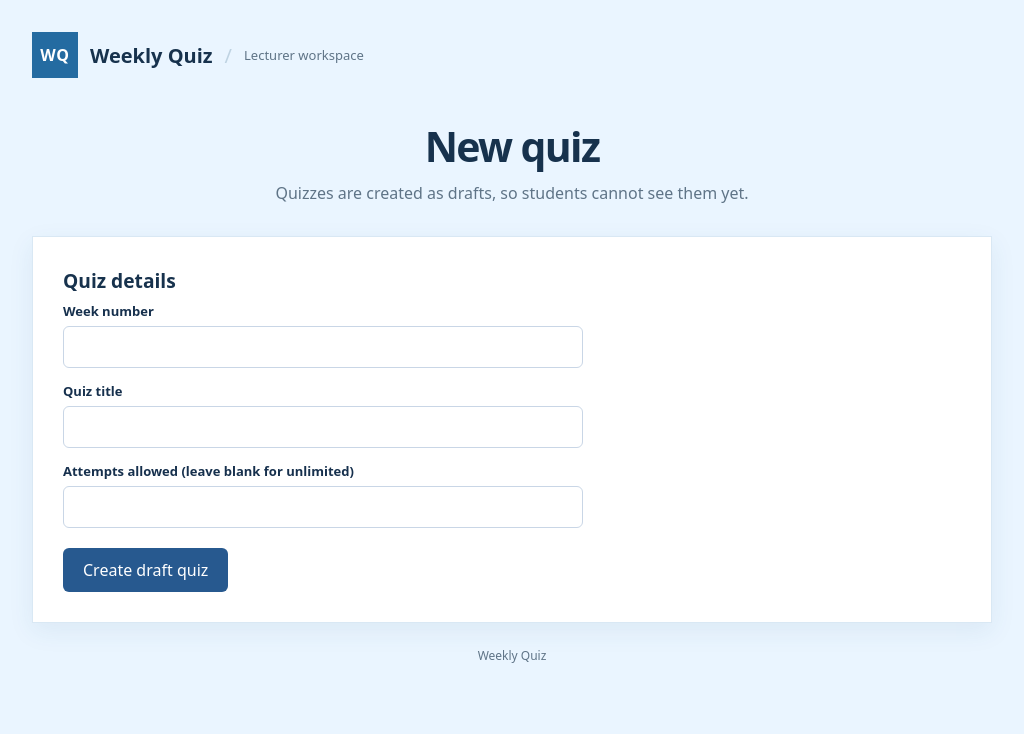
creates the quiz as a draft and moves on to questions
The image size is (1024, 734).
Type "3" into the number field labelled "Week number" at [323, 347], box [63,326,583,368]
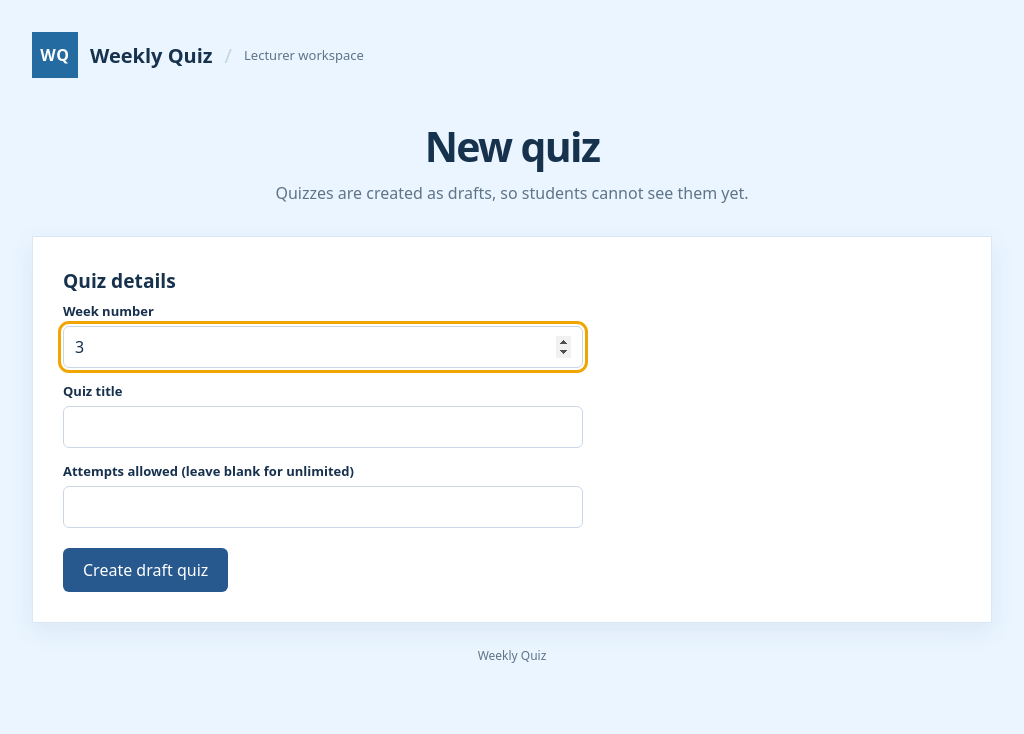
Type "Week 3 — Test Design" into the field labelled "Quiz title" at [323, 427], box [63,406,583,448]
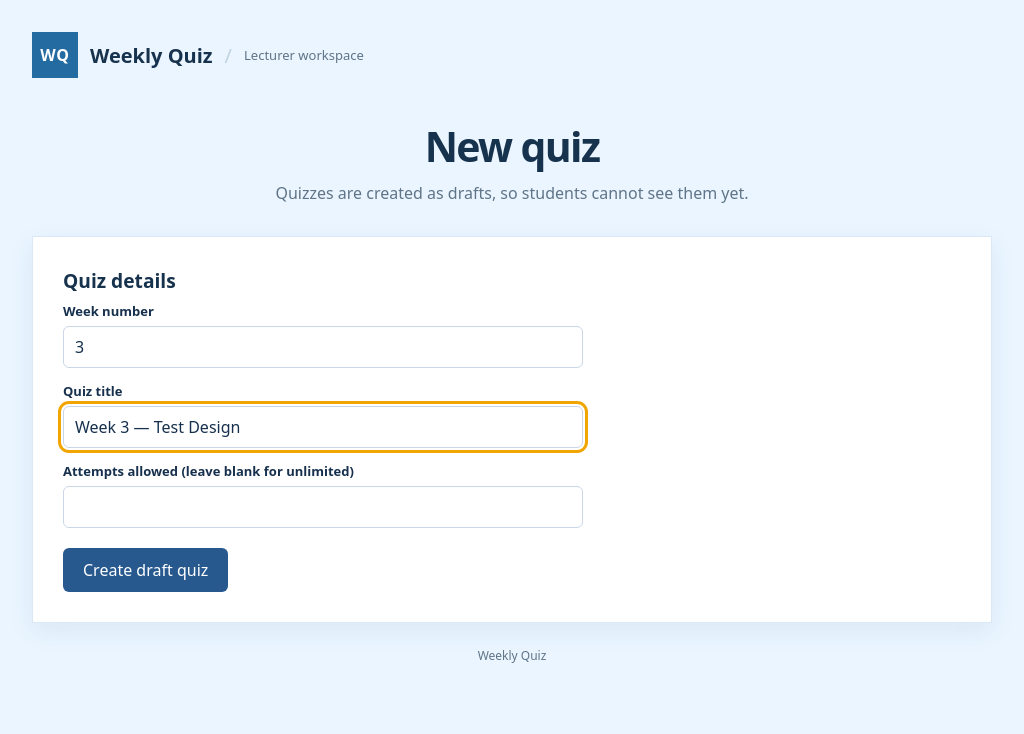
Click the button "Create draft quiz" at [146, 570], box [63,548,228,592]
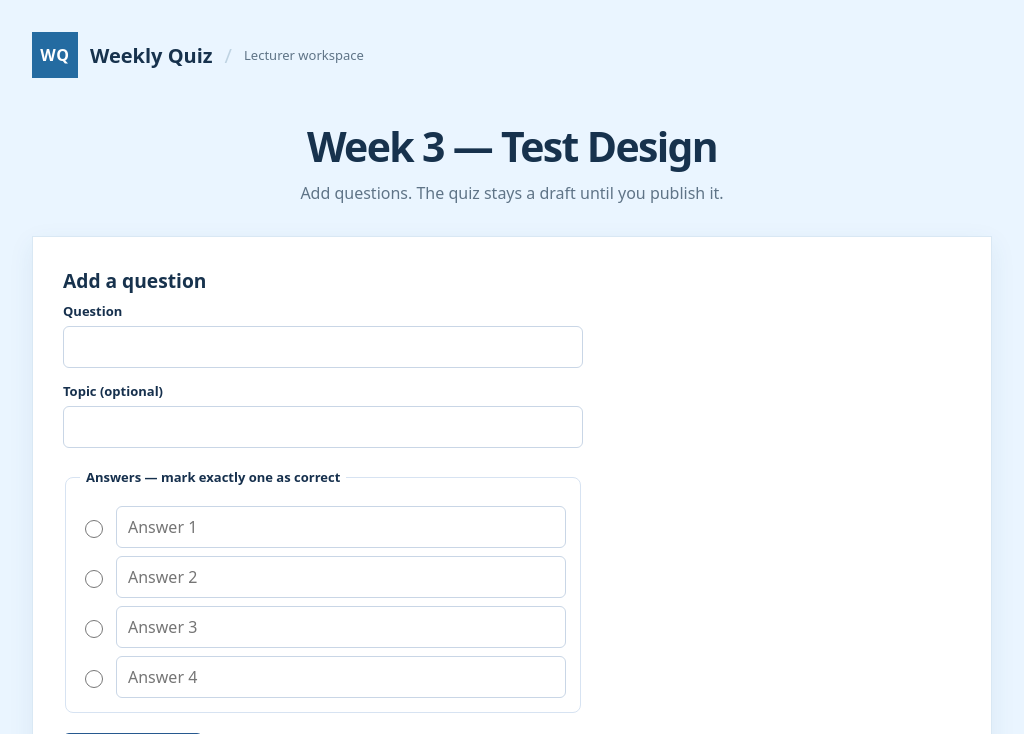
Check: the field labelled "Question" is shown, box [63,326,583,368]
